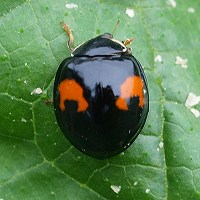Two_spots: (53, 33, 149, 159)
